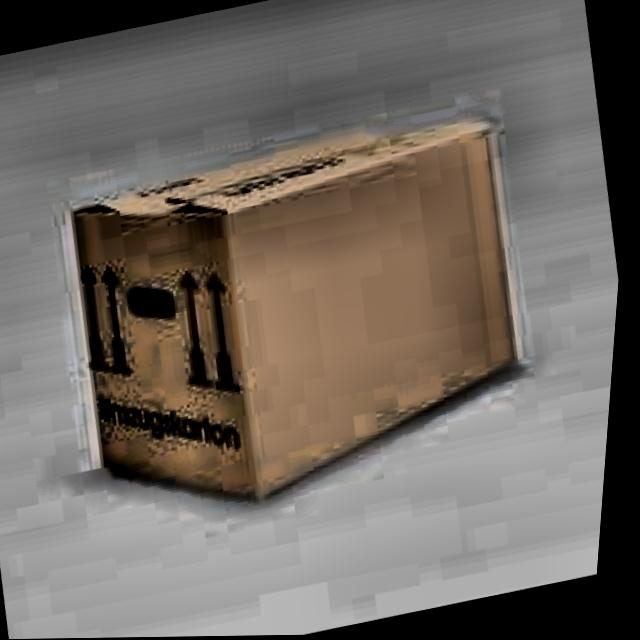Cardbox: (27, 87, 574, 555)
